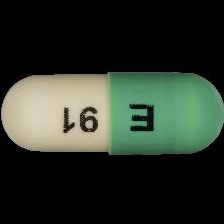53808-0986: (0, 0, 224, 224)
